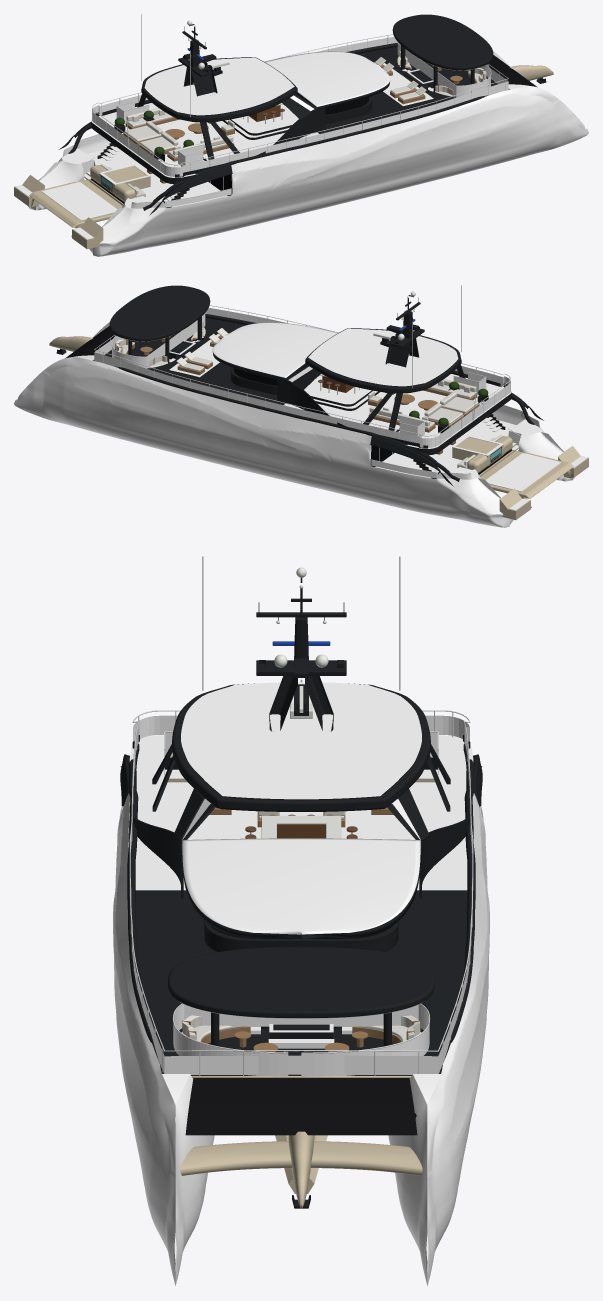
Rendered from seawolf_x.glb.
3 views of the same model, one above another, from view 1: azimuth 30°, elevation 25°; view 2: azimuth 150°, elevation 25°; view 3: azimuth 270°, elevation 25° (orthographic). The views are drawn at different scales.
Parts seen in each view (by area): view 1: Hull, Bridge Deck, Hardtop Solar, Wheelhouse Roof, BD Glass, Oval Canopy, Stern Platform Deck, Aft Deck, Hardtop, Cap Rail -1.001, Stern Platform, SD Bulwark -1 (+19 smaller); view 2: Hull, Bridge Deck, Hardtop Solar, Wheelhouse Roof, BD Glass, Oval Canopy, Stern Platform Deck, Aft Deck, Hardtop, Cap Rail 1.001, Stern Platform, SD Bulwark 1 (+19 smaller); view 3: Hull, Bridge Deck, Hardtop Solar, Wheelhouse Roof, Oval Canopy, Bow Net, BD Glass, Oval Glass, Bow Beam, Hardtop, Wheelhouse Base, BD Handrail.001 (+6 smaller).
Part boxes in pixels (x1=…): Hull: x1=28, y1=51, x2=588, y2=256; Bridge Deck: x1=91, y1=47, x2=498, y2=184; Hardtop Solar: x1=144, y1=57, x2=294, y2=115; Wheelhouse Roof: x1=264, y1=51, x2=390, y2=108; BD Glass: x1=92, y1=37, x2=508, y2=176; Oval Canopy: x1=392, y1=14, x2=493, y2=70; Stern Platform Deck: x1=42, y1=182, x2=116, y2=220; Aft Deck: x1=86, y1=147, x2=227, y2=208; Hardtop: x1=141, y1=57, x2=297, y2=122; Cap Rail -1.001: x1=143, y1=95, x2=488, y2=210; Stern Platform: x1=29, y1=179, x2=122, y2=227; SD Bulwark -1: x1=175, y1=105, x2=325, y2=177; Hull: x1=14, y1=322, x2=574, y2=527; Bridge Deck: x1=104, y1=318, x2=511, y2=455; Hardtop Solar: x1=308, y1=328, x2=458, y2=386; Wheelhouse Roof: x1=212, y1=322, x2=338, y2=379; BD Glass: x1=94, y1=308, x2=510, y2=447; Oval Canopy: x1=109, y1=285, x2=210, y2=341; Stern Platform Deck: x1=486, y1=453, x2=560, y2=491; Aft Deck: x1=375, y1=418, x2=516, y2=479; Hardtop: x1=305, y1=328, x2=461, y2=393; Cap Rail 1.001: x1=114, y1=366, x2=459, y2=481; Stern Platform: x1=480, y1=450, x2=573, y2=498; SD Bulwark 1: x1=277, y1=376, x2=427, y2=448; Hull: x1=113, y1=769, x2=489, y2=1285; Bridge Deck: x1=128, y1=735, x2=473, y2=1075; Hardtop Solar: x1=181, y1=682, x2=421, y2=800; Wheelhouse Roof: x1=182, y1=838, x2=420, y2=939; Oval Canopy: x1=168, y1=947, x2=434, y2=1018; Bow Net: x1=185, y1=1078, x2=417, y2=1135; BD Glass: x1=130, y1=715, x2=471, y2=1074; Oval Glass: x1=173, y1=1004, x2=429, y2=1076; Bow Beam: x1=180, y1=1141, x2=422, y2=1175; Hardtop: x1=172, y1=683, x2=430, y2=811; Wheelhouse Base: x1=204, y1=921, x2=398, y2=951; BD Handrail.001: x1=129, y1=710, x2=473, y2=1051.
Bounding box in the file's own units: 42.77 × 15.06 × 13.77.
